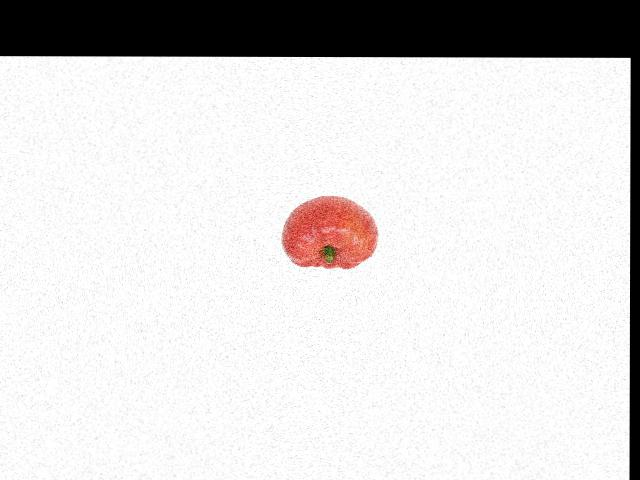tomato: (282, 196, 378, 267)
